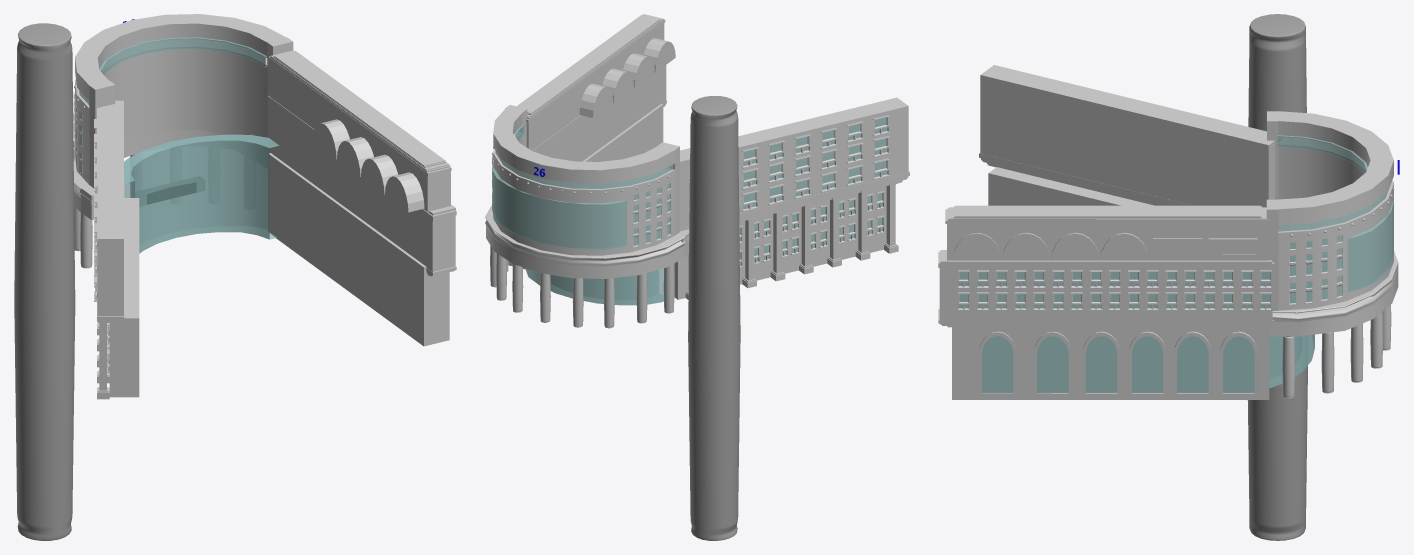
File: 법대ㄹㅇㅇㅇ.fbx
3 renders of one model, left to right at view 1: azimuth 30°, elevation 25°; view 2: azimuth 150°, elevation 25°; view 3: azimuth 270°, elevation 25°, orthographic. The views are drawn at different scales.
Visible parts, largest first — view 1: pCube44, pCylinder2, pPipe1, pPipe9, polySurface304, pPipe2, pPipe5, pPipe3, pCube4, pCylinder10, pCube3, pCube37; view 2: polySurface304, pCylinder2, pCube44, pPipe1, pPipe4, pPipe3, pPipe2, pPipe9, pPipe5, pCylinder14, pCube4, pCylinder16 (+4 smaller); view 3: pCube44, polySurface304, pCylinder2, pPipe1, pPipe2, pPipe3, pPipe4, polySurface219, pPipe5, pPipe9, pCube3, pCylinder11 (+4 smaller).
Part boxes in pixels (<box>): pCube44: <box>268,50,456,346</box>; pCylinder2: <box>14,23,75,540</box>; pPipe1: <box>75,39,267,184</box>; pPipe9: <box>124,134,279,253</box>; polySurface304: <box>94,100,139,399</box>; pPipe2: <box>75,14,286,101</box>; pPipe5: <box>79,37,266,104</box>; pPipe3: <box>73,130,267,212</box>; pCube4: <box>89,80,115,188</box>; pCylinder10: <box>80,213,92,268</box>; pCube3: <box>267,37,293,137</box>; pCube37: <box>147,182,196,204</box>; polySurface304: <box>666,97,909,299</box>; pCylinder2: <box>688,96,740,540</box>; pCube44: <box>508,14,675,269</box>; pPipe1: <box>493,132,675,255</box>; pPipe4: <box>493,168,626,249</box>; pPipe3: <box>485,206,685,278</box>; pPipe2: <box>493,108,675,183</box>; pPipe9: <box>525,263,674,305</box>; pPipe5: <box>495,124,672,188</box>; pCylinder14: <box>604,278,614,328</box>; pCube4: <box>658,142,679,234</box>; pCylinder16: <box>572,278,583,327</box>; pCube44: <box>938,205,1274,399</box>; polySurface304: <box>979,65,1281,207</box>; pCylinder2: <box>1247,14,1307,540</box>; pPipe1: <box>1278,137,1393,311</box>; pPipe2: <box>1277,111,1393,225</box>; pPipe3: <box>1269,251,1398,336</box>; pPipe4: <box>1347,200,1393,291</box>; polySurface219: <box>1288,234,1343,305</box>; pPipe5: <box>1277,135,1387,231</box>; pPipe9: <box>1269,334,1314,387</box>; pCube3: <box>1266,199,1278,310</box>; pCylinder11: <box>1282,336,1295,398</box>.
Bounding box in the file's own units: 33.83 × 47.81 × 39.54.
